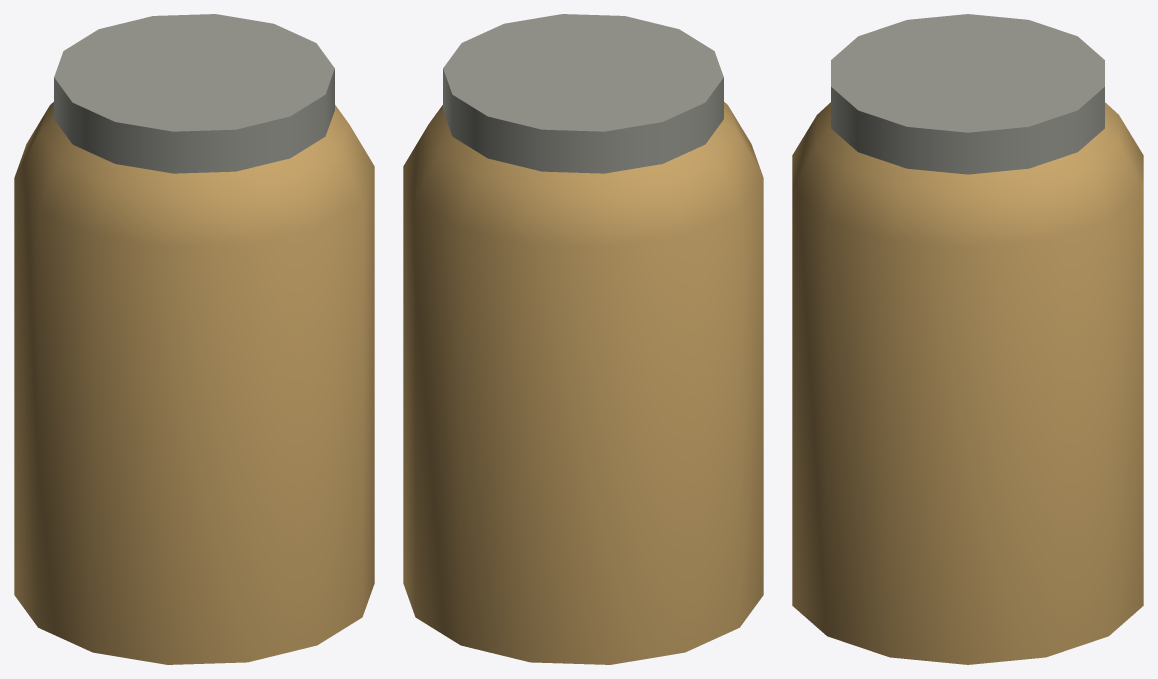
Rendered from tpl_dispensa_vaso_m_farro.glb.
3 renders of one model, left to right at view 1: azimuth 30°, elevation 25°; view 2: azimuth 150°, elevation 25°; view 3: azimuth 270°, elevation 25°, orthographic.
Parts seen in each view (by area): view 1: tpl_dispensa_vaso_m_farro; view 2: tpl_dispensa_vaso_m_farro; view 3: tpl_dispensa_vaso_m_farro.
Boxes of the visible parts, x1=… form: tpl_dispensa_vaso_m_farro: x1=14, y1=14, x2=374, y2=664; tpl_dispensa_vaso_m_farro: x1=403, y1=14, x2=763, y2=664; tpl_dispensa_vaso_m_farro: x1=792, y1=14, x2=1143, y2=664.
Size of the model in its own units: 0.11 by 0.1737 by 0.1072.
